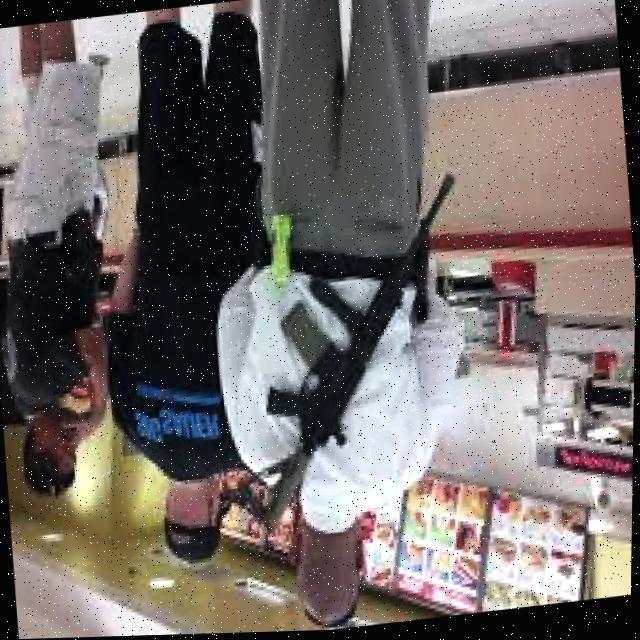firearm: (213, 177, 483, 534)
